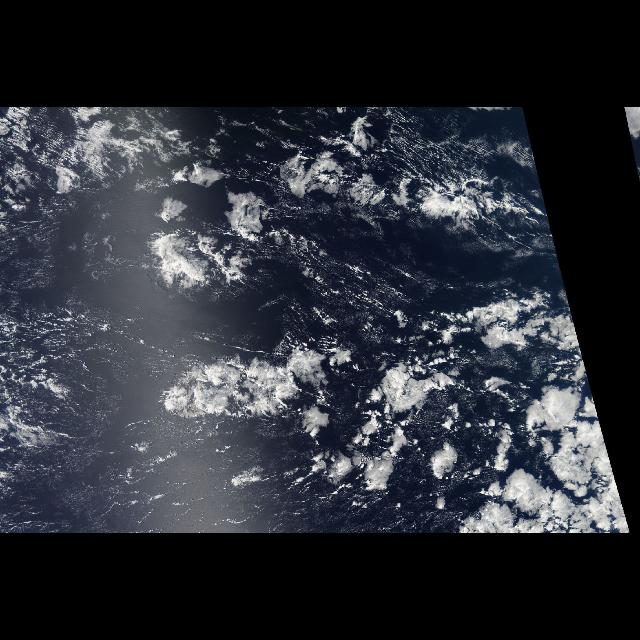Flower: (131, 168, 557, 504)
Sugar: (1, 193, 313, 531), (380, 123, 514, 179)
